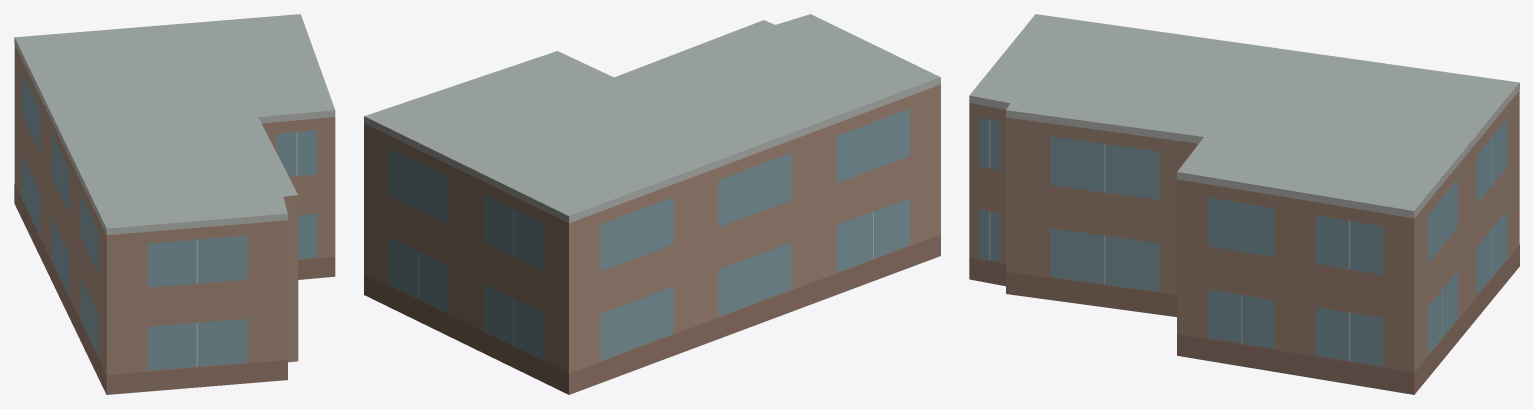
The model's file is survey-upis-32718736.glb.
3 renders of one model, left to right at view 1: azimuth 30°, elevation 25°; view 2: azimuth 150°, elevation 25°; view 3: azimuth 270°, elevation 25°, orthographic. The views are drawn at different scales.
Visible parts, largest first — view 1: survey-upis-32718736.tmp; view 2: survey-upis-32718736.tmp; view 3: survey-upis-32718736.tmp.
Part boxes in pixels (x1,y1,x2,y2): survey-upis-32718736.tmp: (14, 14, 335, 394); survey-upis-32718736.tmp: (364, 14, 940, 394); survey-upis-32718736.tmp: (969, 14, 1519, 394).
Size of the model in its own units: 14.04 by 6.1 by 16.57.
